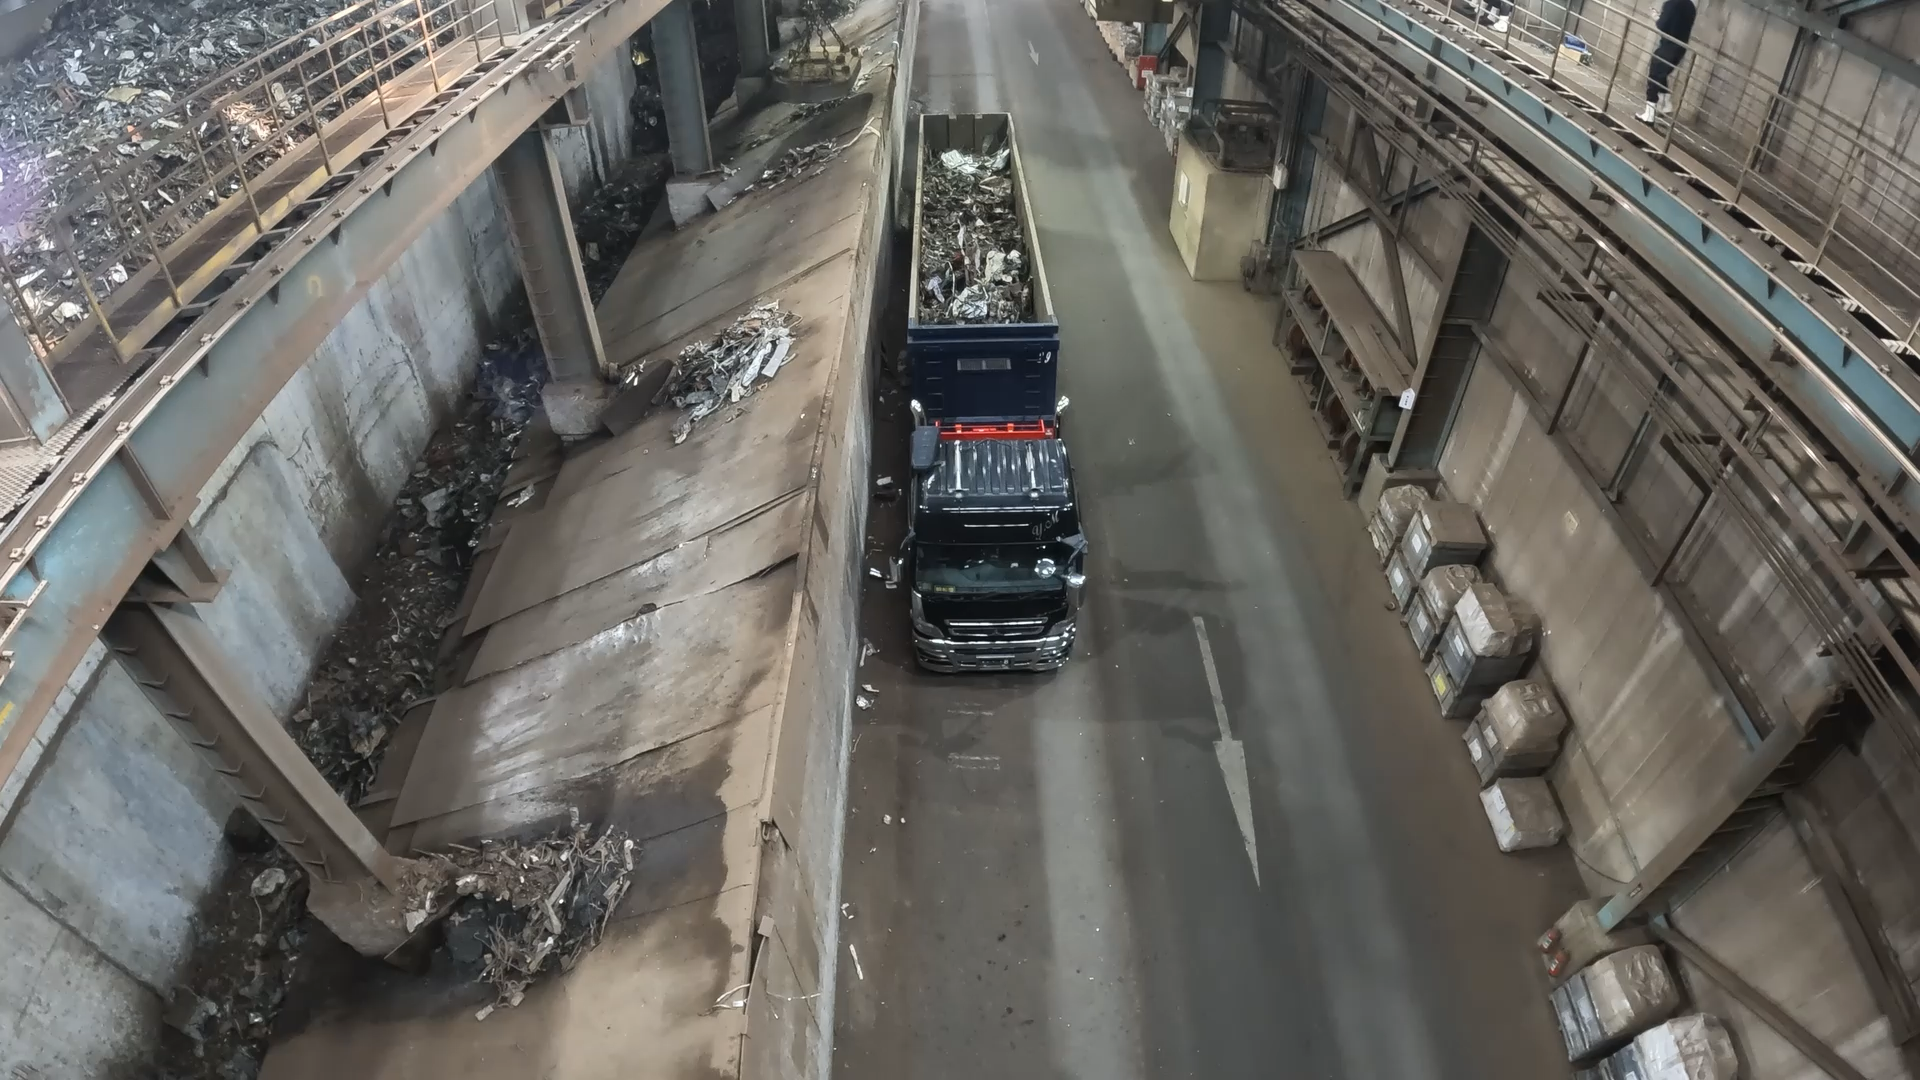truck: (910, 112, 1054, 326)
